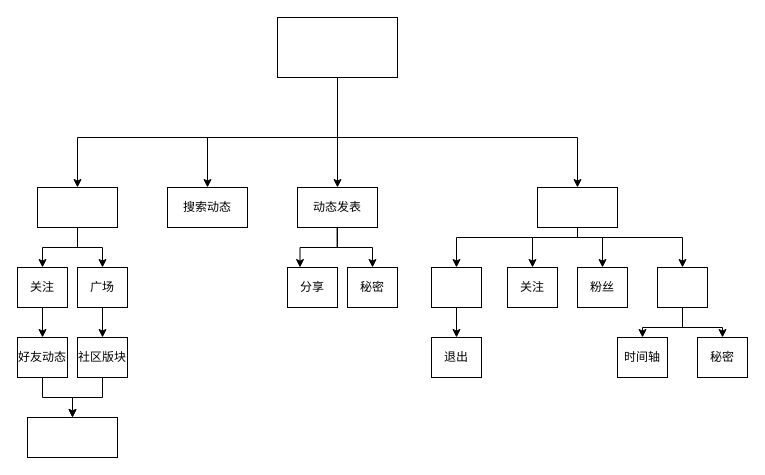
This 765x475 diagram has some shape labels left out. The centre of each missing label's shape, as x and y in pixels:
"世界（首页）" goes at (x=77, y=207).
"其他用户详情页" goes at (x=72, y=437).
"我的" goes at (x=577, y=207).
"我的小屋" goes at (x=682, y=287).
"白领女性社区APP" goes at (x=337, y=47).
"设置" goes at (x=456, y=287).
